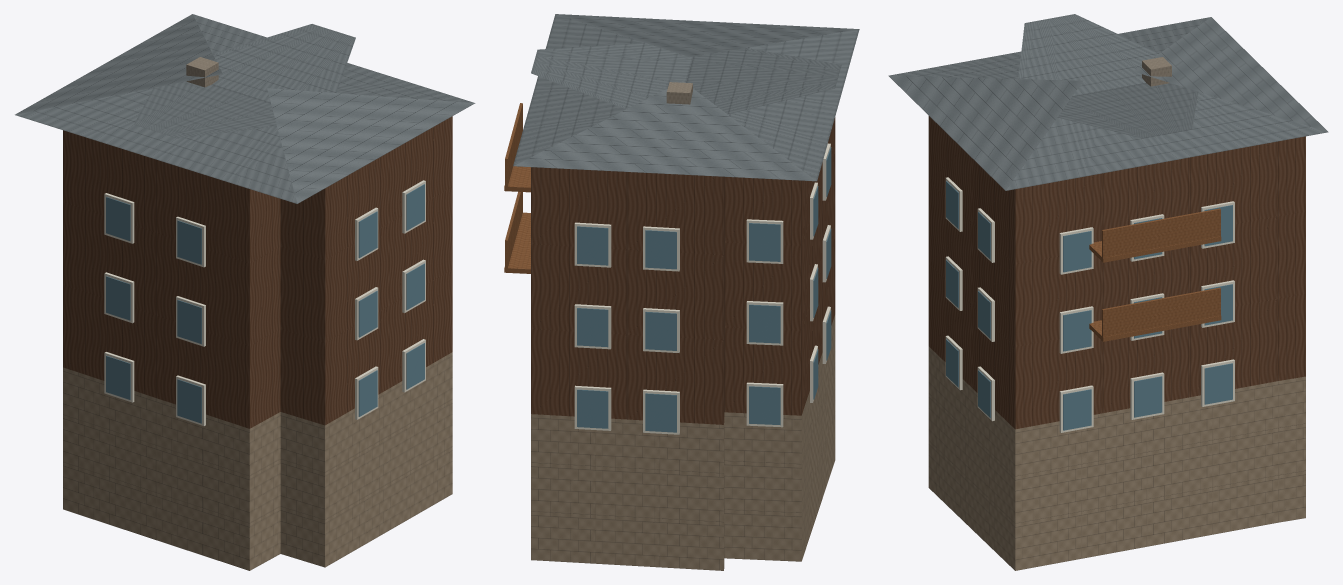
Rendered from core_0092.gltf.
The picture shows the model from 3 angles, left to right: view 1: azimuth 30°, elevation 25°; view 2: azimuth 150°, elevation 25°; view 3: azimuth 270°, elevation 25°; orthographic projection. The views are drawn at different scales.
Parts seen in each view (by area): view 1: core_0092; view 2: core_0092; view 3: core_0092.
Boxes of the visible parts, box(x1,y1,x2,y2) form: core_0092: box(15, 14, 475, 570); core_0092: box(504, 14, 859, 570); core_0092: box(888, 14, 1328, 570).
Bounding box in the file's own units: 13.44 × 15.15 × 14.38.
7 materials, 7 textured.
